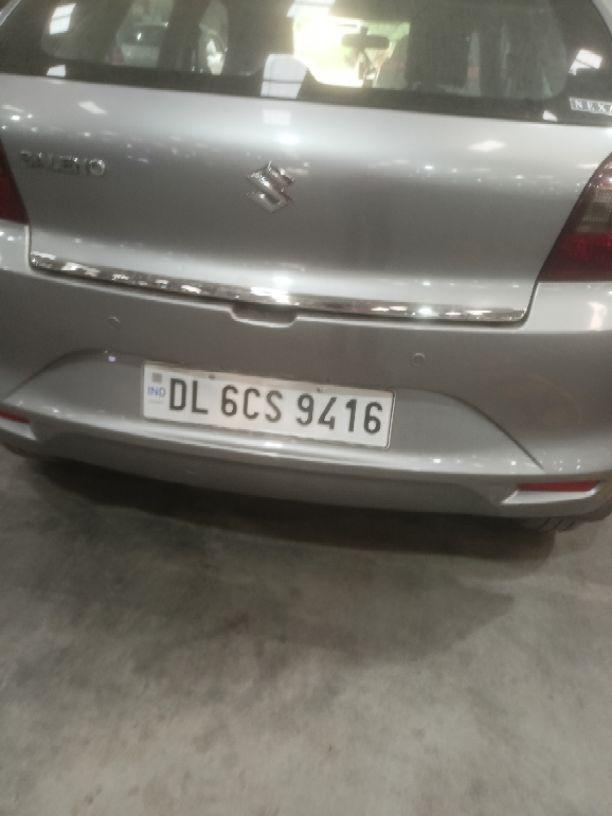license_plate: (140, 360, 395, 449)
